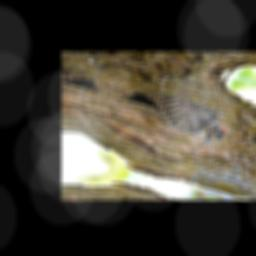Woodpecker: (106, 87, 240, 147)
